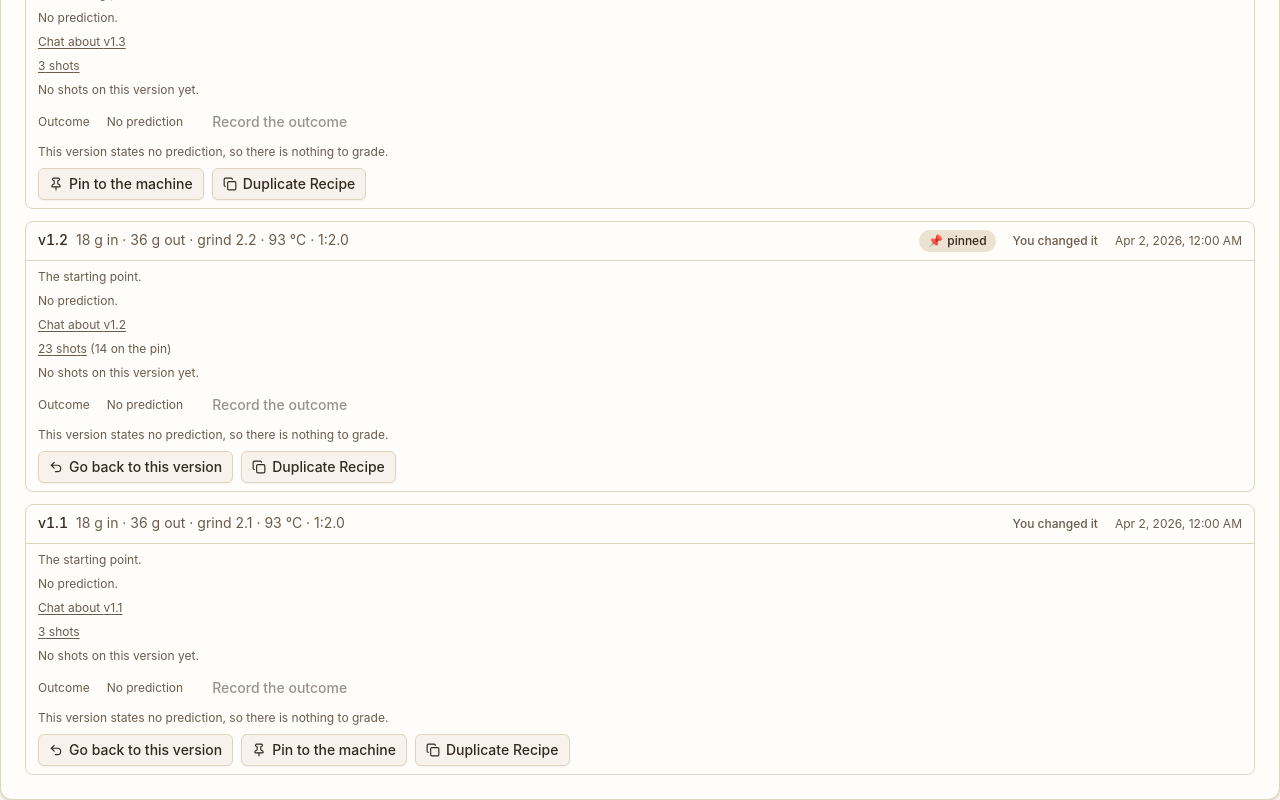
Test case: the pin dialog › pins with the default name, once, closes, and sends no label
(page scrolled)
Click the button "Pin to the machine" below "18 g in · 36 g out · grind 2.1 · 93 °C".
click(324, 750)  # box [241, 734, 407, 766]
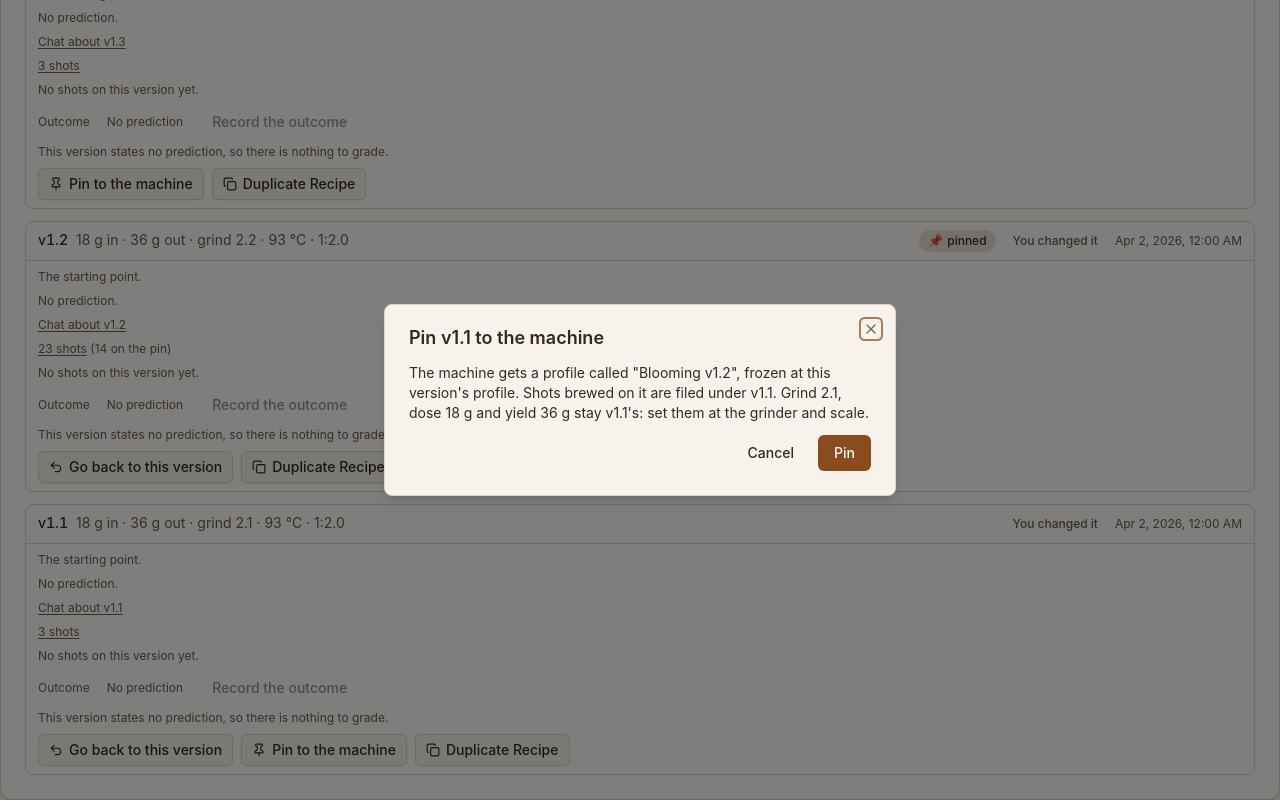
Result: the text with test id "pin-explained" is shown at [409, 363, 871, 423]
Double-click the button "Pin".
double_click(845, 453)  # box [818, 435, 871, 471]
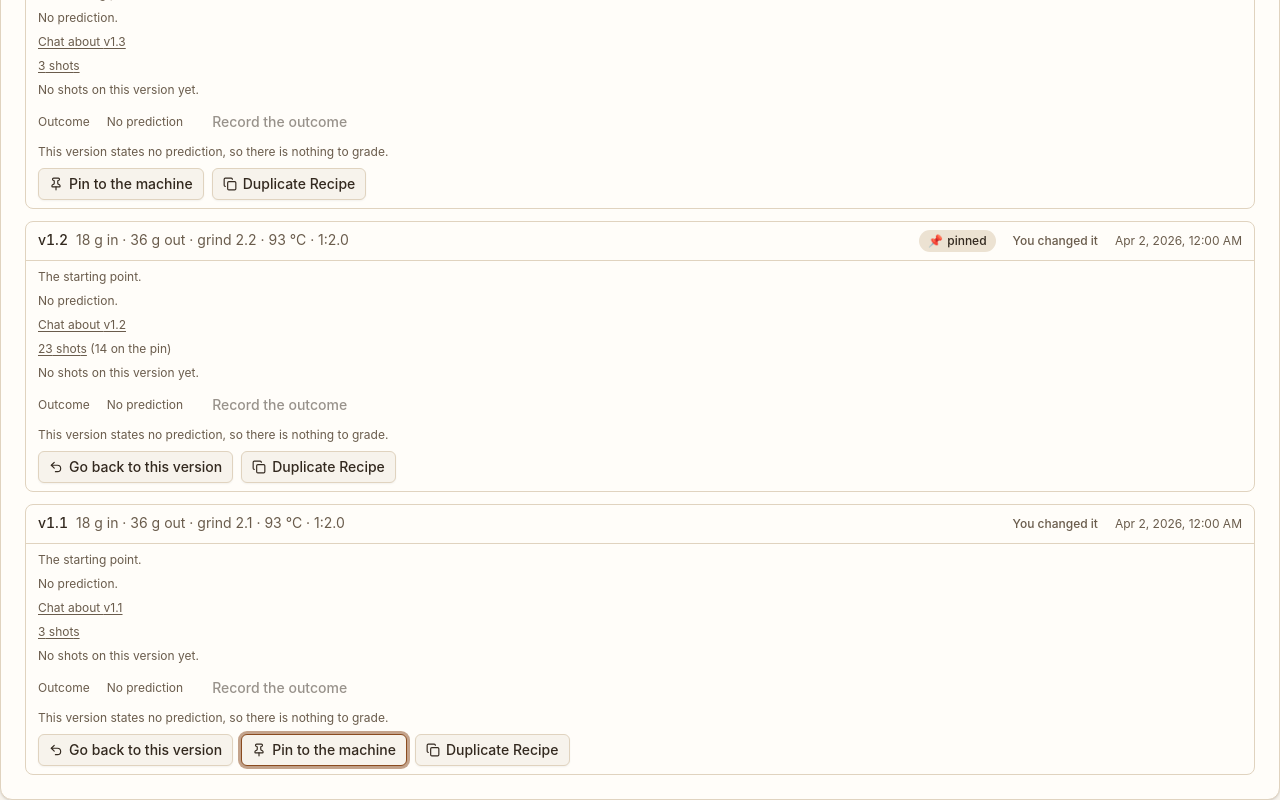
Result: the dialog with test id "pin-dialog" is gone
